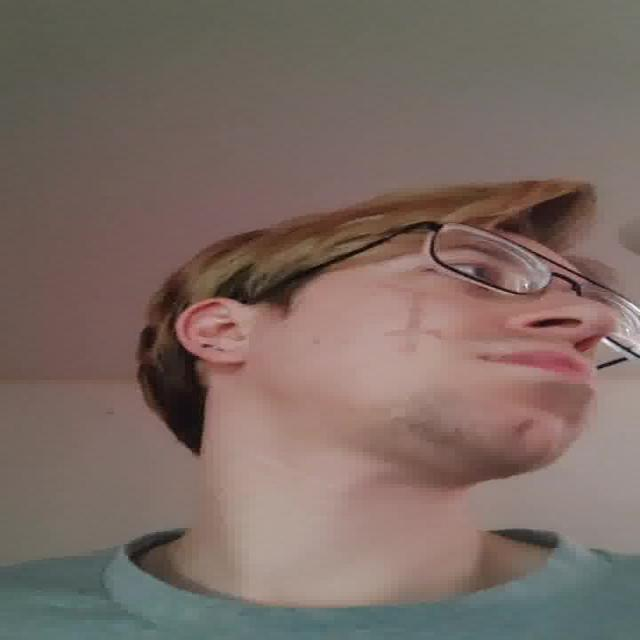earlobe: (173, 297, 254, 366)
